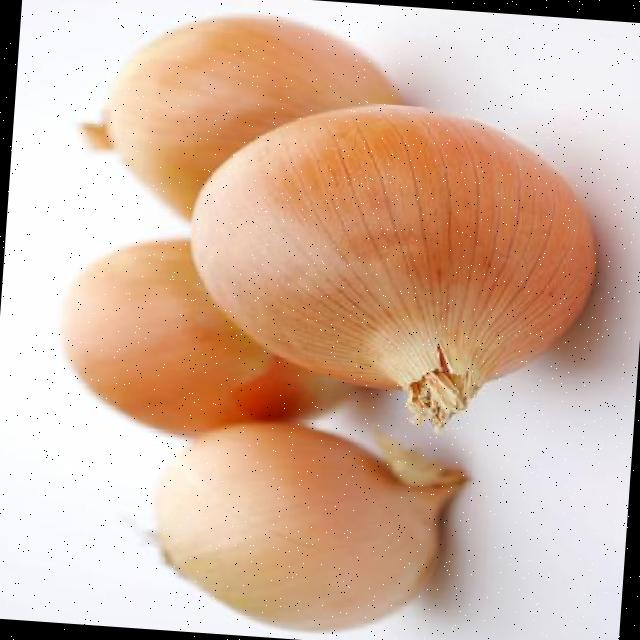Onion: (194, 104, 596, 426), (84, 14, 401, 217), (158, 423, 461, 630), (62, 238, 353, 435)
